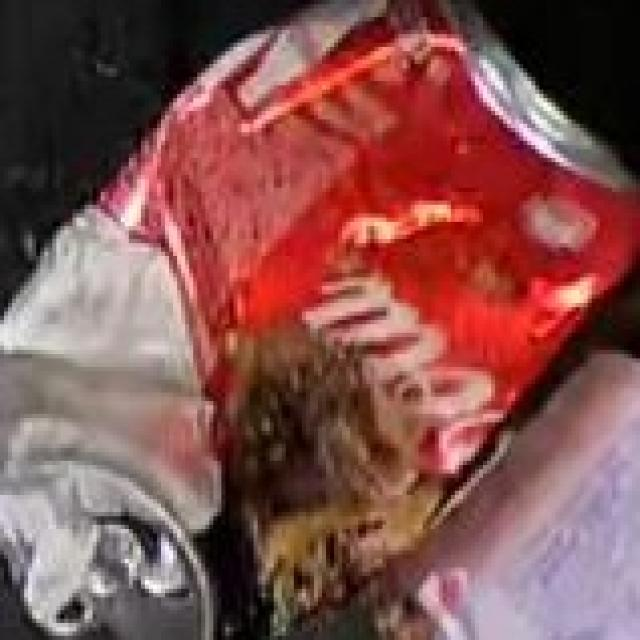litter: (3, 0, 640, 640)
